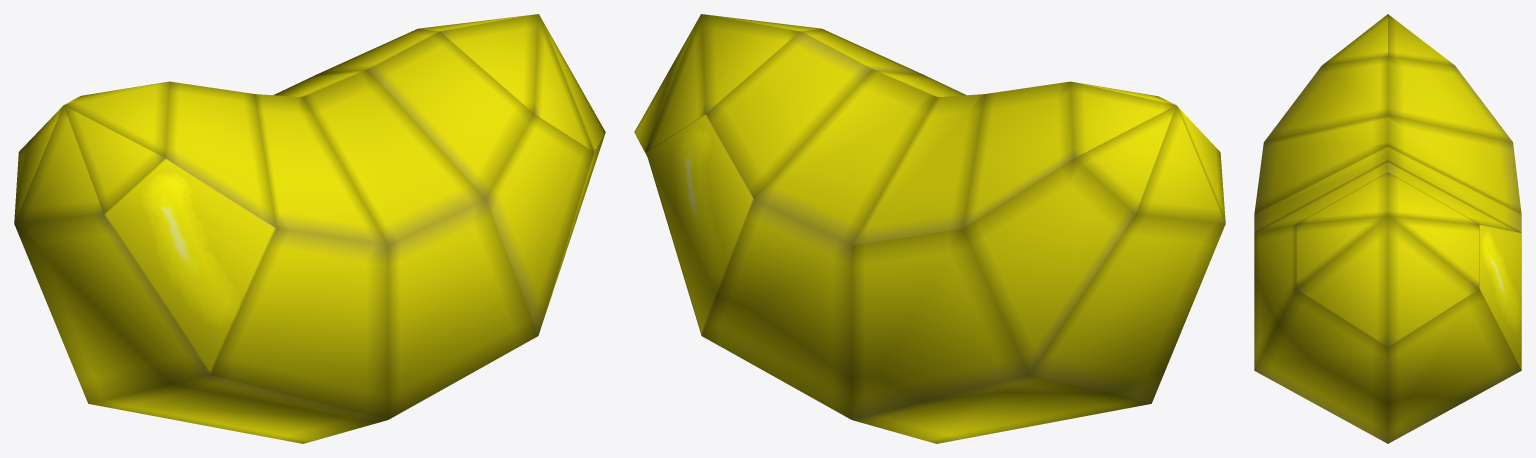
Rendered from bob.glb.
3 views of the same model, side by side, from view 1: azimuth 30°, elevation 25°; view 2: azimuth 150°, elevation 25°; view 3: azimuth 270°, elevation 25° (orthographic). The views are drawn at different scales.
Visible parts, largest first — view 1: T1L1M003_8.001; view 2: T1L1M003_8.001; view 3: T1L1M003_8.001.
Boxes of the visible parts, x1,y1,x2,y2 form: T1L1M003_8.001: [14, 14, 605, 443]; T1L1M003_8.001: [634, 14, 1225, 443]; T1L1M003_8.001: [1254, 14, 1521, 443].
Bounding box in the file's own units: 0.5615 × 0.3604 × 0.2793.
Materials: 1 (1 with a texture image).
